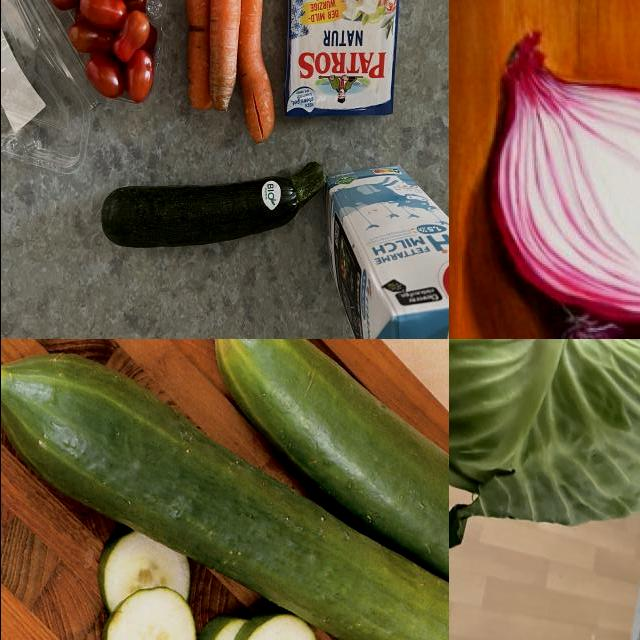cabbage: (449, 340, 640, 556)
carrot: (241, 1, 285, 176), (206, 1, 245, 131), (185, 1, 215, 155)
cucumber: (1, 348, 449, 640), (213, 340, 449, 640)
onion: (486, 51, 640, 321)
tomato: (17, 1, 170, 104)
zucchini: (96, 156, 328, 274)
